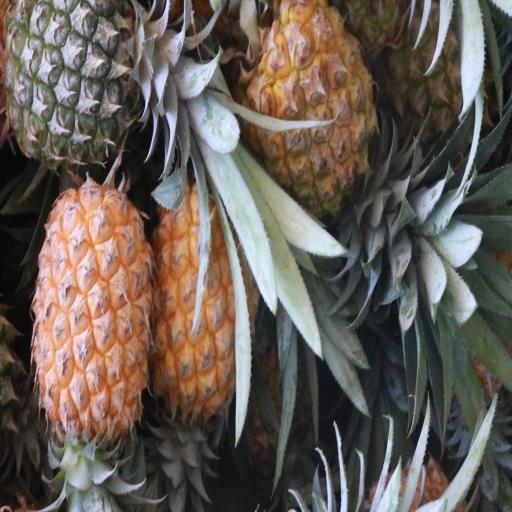------------------------------: (380, 0, 486, 153)
Pineapple - v8 v1: (35, 180, 150, 441), (234, 0, 376, 205), (154, 180, 257, 414)
